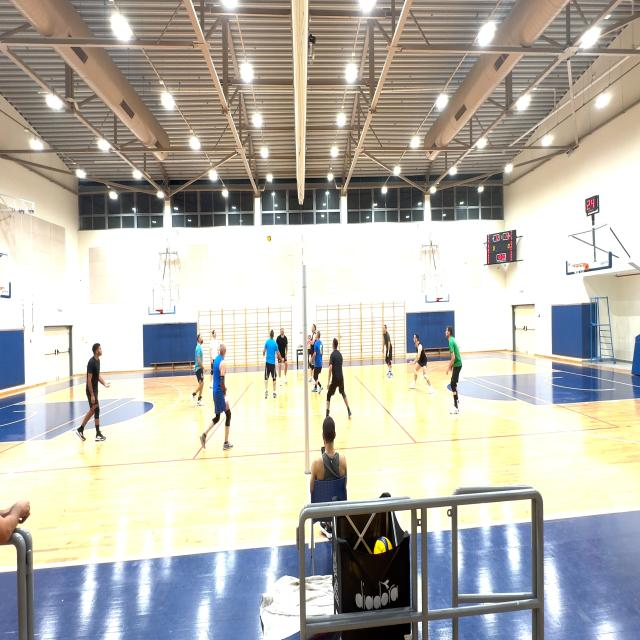volleyball: (373, 536, 392, 555), (267, 235, 271, 242)
